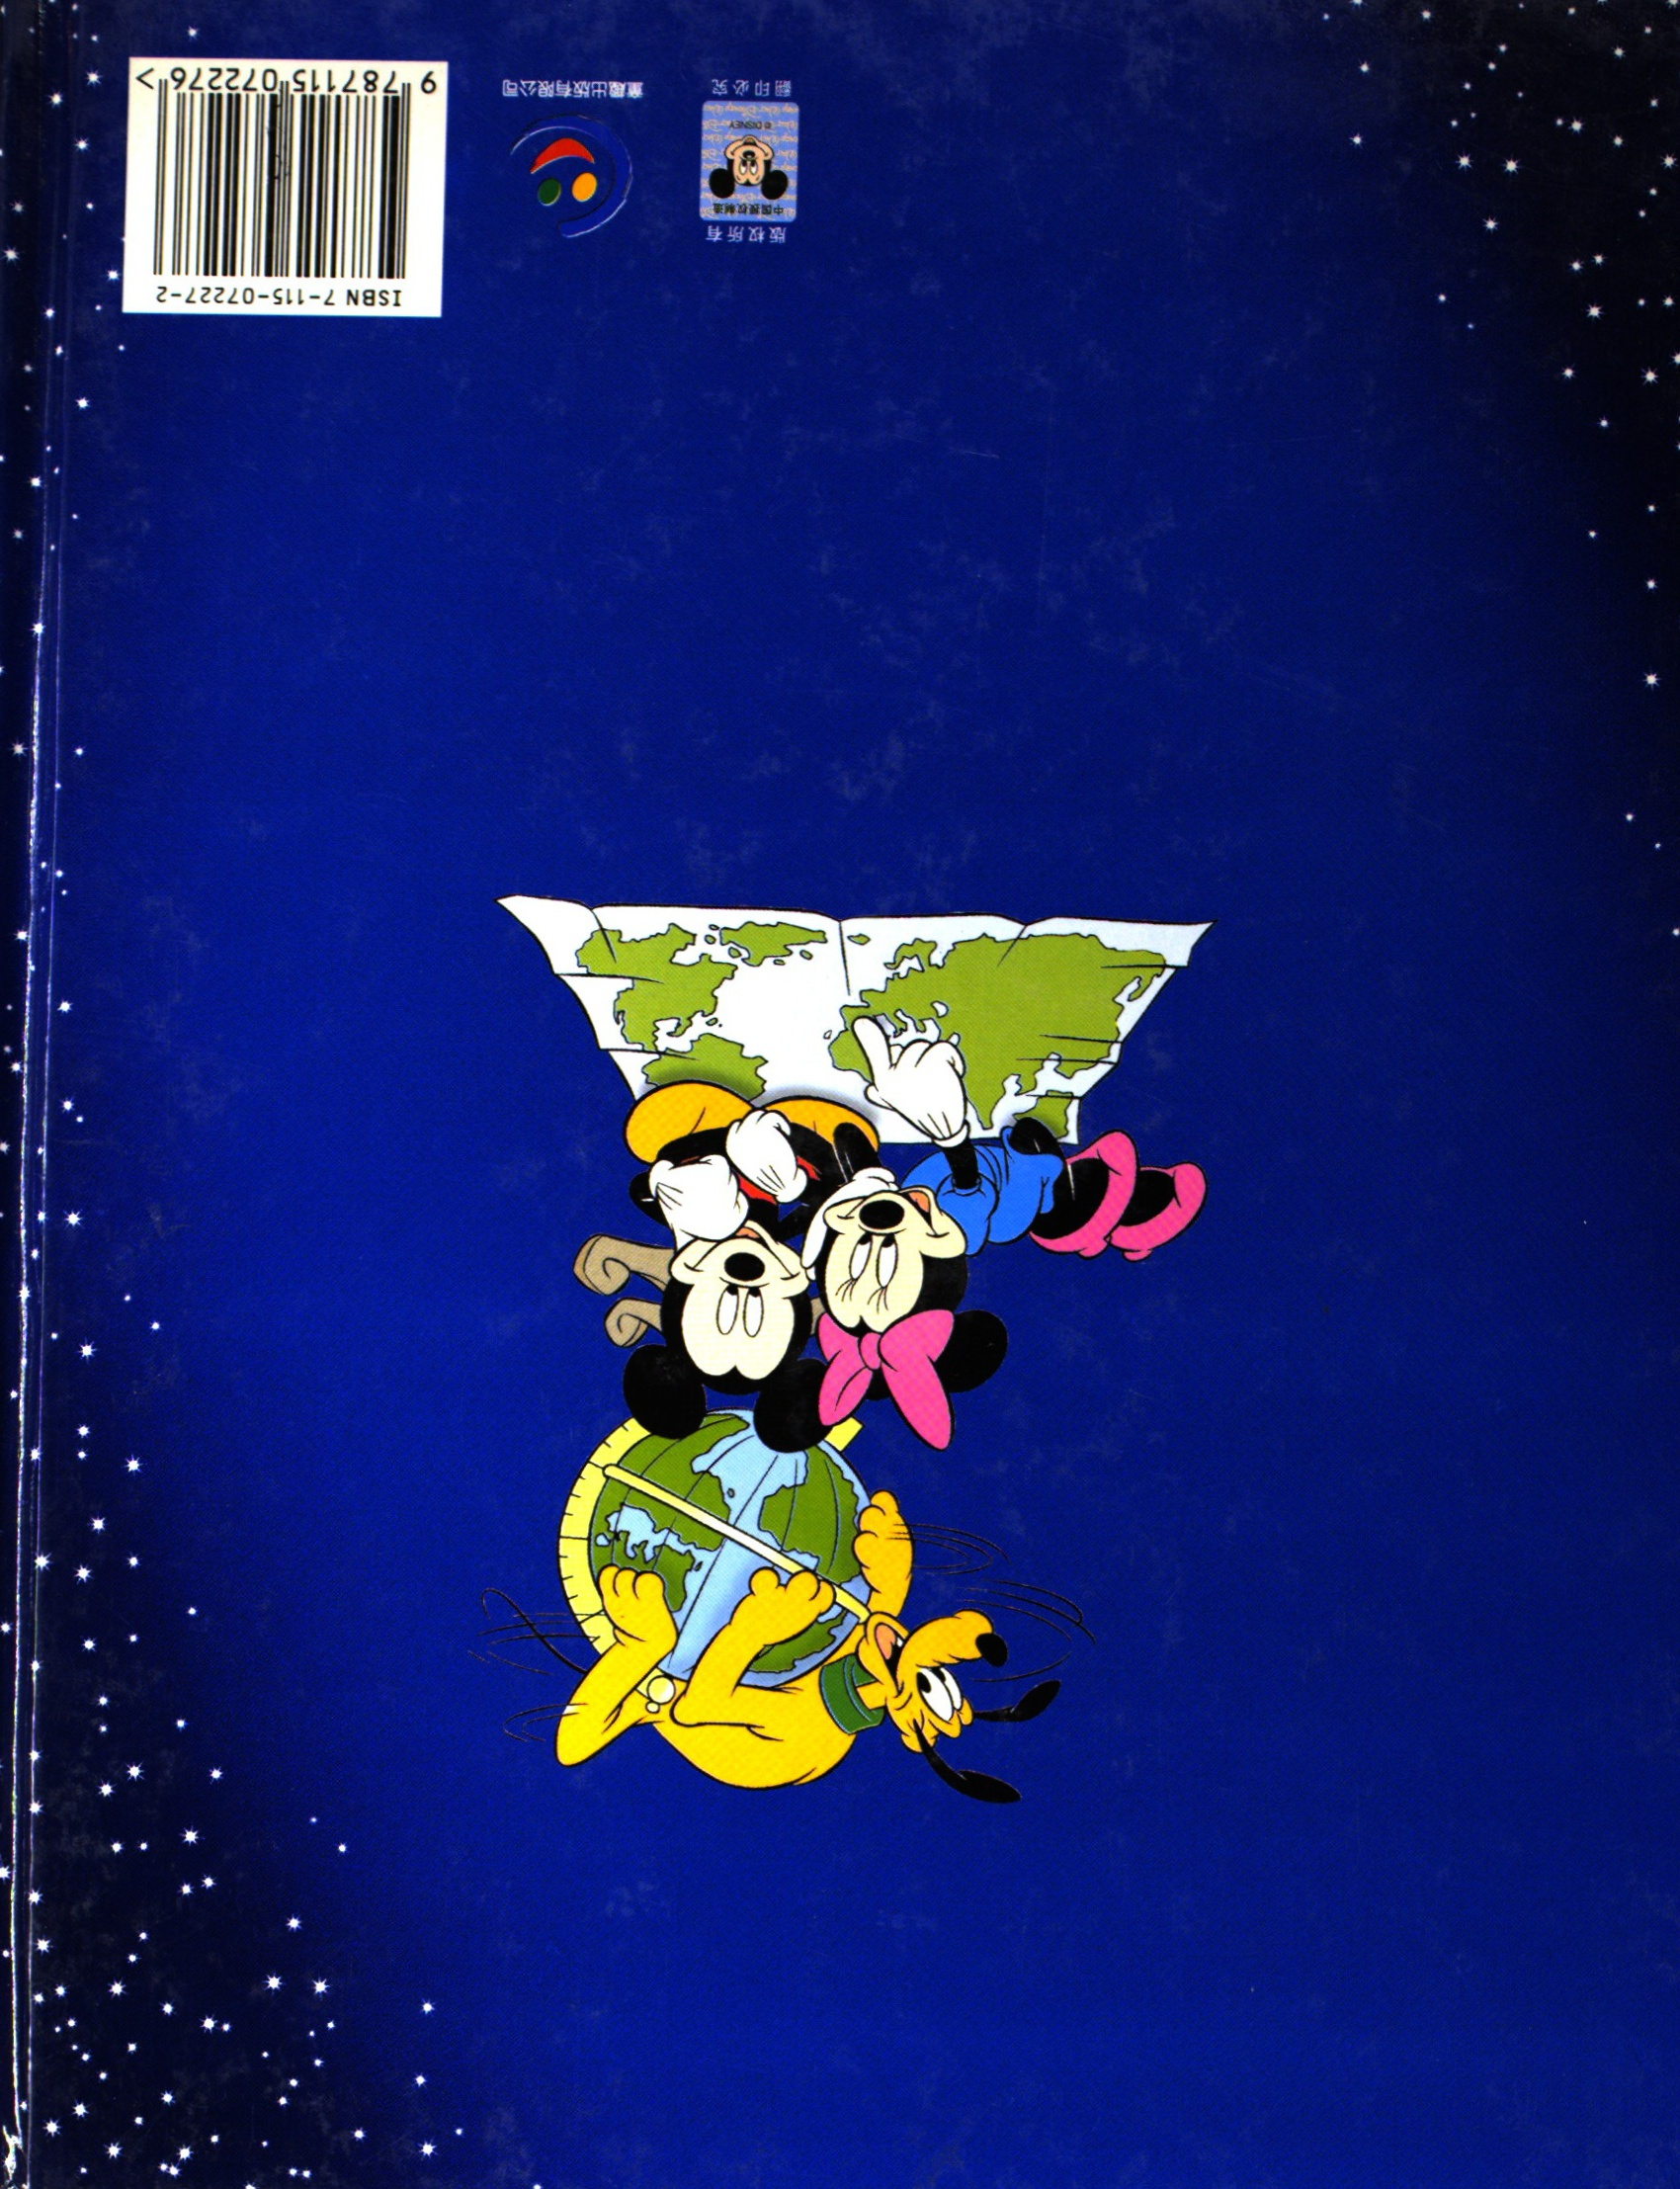barcode: (131, 55, 446, 321)
